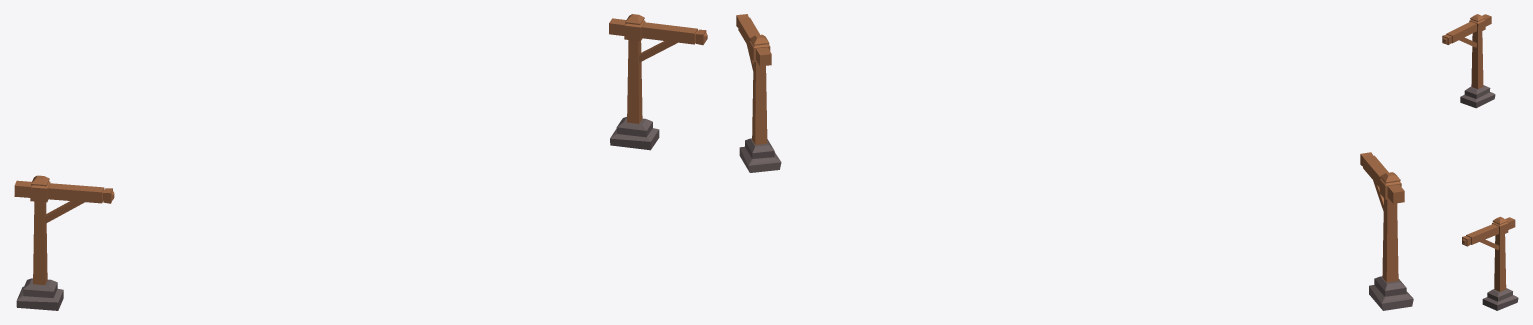
Rendered from pole-v1.glb.
3 renders of one model, left to right at view 1: azimuth 30°, elevation 25°; view 2: azimuth 150°, elevation 25°; view 3: azimuth 270°, elevation 25°, orthographic. The views are drawn at different scales.
Visible parts, largest first — view 1: Cube.035, Cube.029, Cube.032, Cube.028; view 2: Cube.029, Cube.035, Cube.028, Cube.032; view 3: Cube.035, Cube.029, Cube.032, Cube.028.
Part boxes in pixels (x1,y1,x2,y2): Cube.035: [609, 14, 707, 123]; Cube.029: [14, 175, 114, 284]; Cube.032: [610, 117, 659, 150]; Cube.028: [16, 278, 63, 310]; Cube.029: [1360, 152, 1404, 282]; Cube.035: [736, 14, 771, 144]; Cube.028: [1369, 276, 1413, 310]; Cube.032: [739, 138, 781, 172]; Cube.035: [1462, 216, 1515, 291]; Cube.029: [1442, 14, 1491, 88]; Cube.032: [1482, 288, 1518, 310]; Cube.028: [1460, 85, 1495, 108].
Bounding box in the file's own units: 3.95 × 0.6965 × 0.562.
